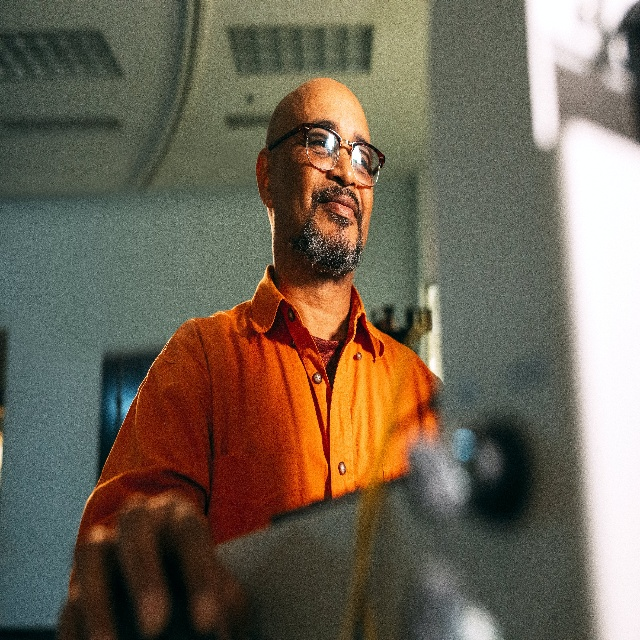Gafas: (267, 120, 386, 188)
Sin_guantes: (57, 492, 245, 637)
